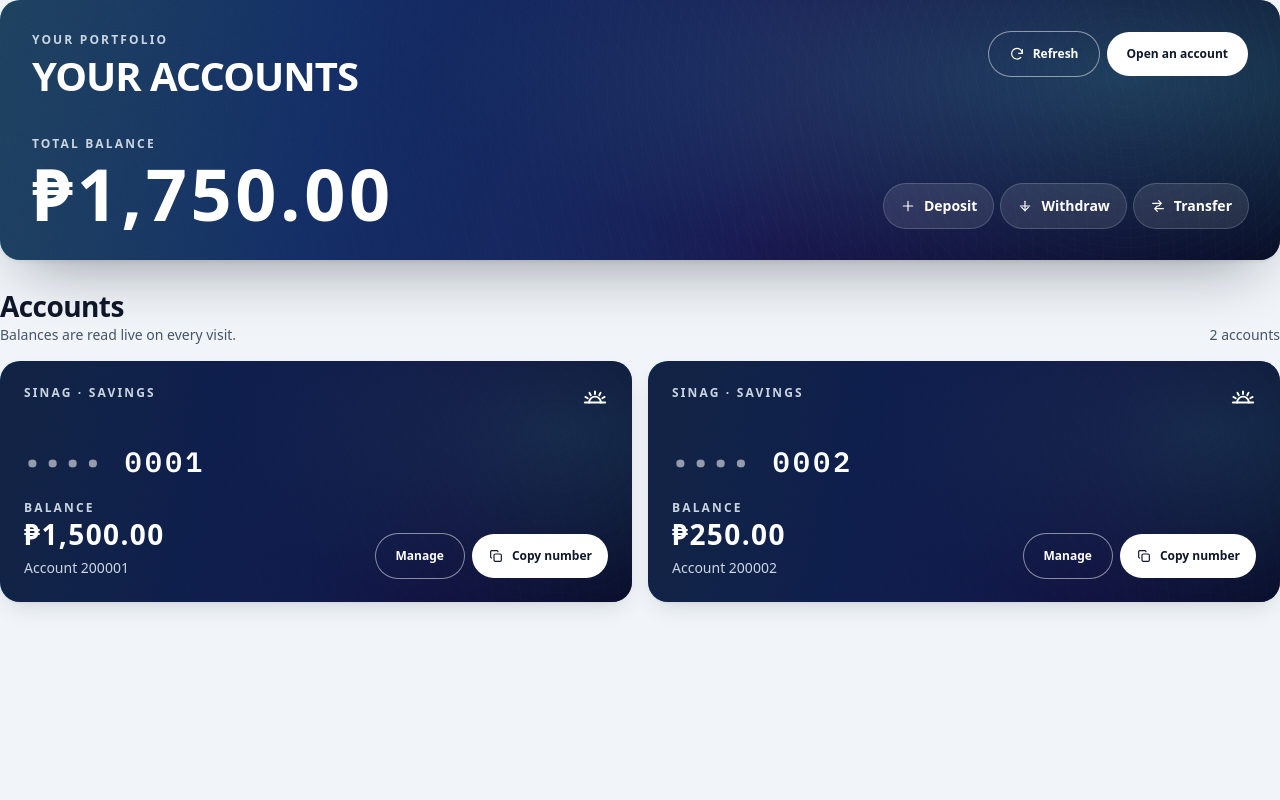
Test case: DashboardPage money actions › opens Deposit in a dialog and makes the source account explicit
This screenshot has width=1280, height=800.
Expected: the text "Account 200001" is shown, [24,558,129,577]
What coordinates should you click on to do the following:
click the button "Deposit"
I would click on:
 (939, 206)
Its box is [884,184,993,228].
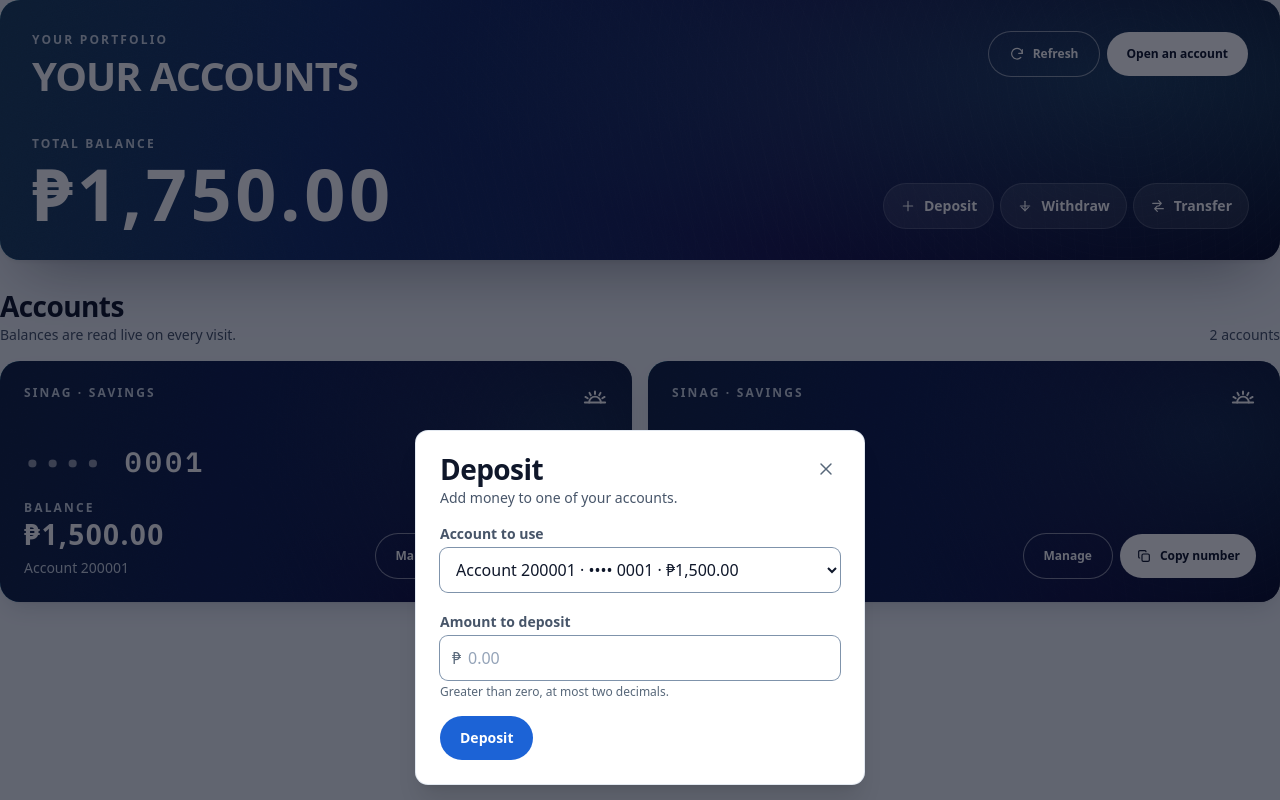
Expected: the dropdown labelled "Account to use" shows "Account 200001 · •••• 0001 · ₱1,500.00", [440,548,840,592]
Expected: the field labelled "Amount to deposit" is shown, [440,636,840,680]
